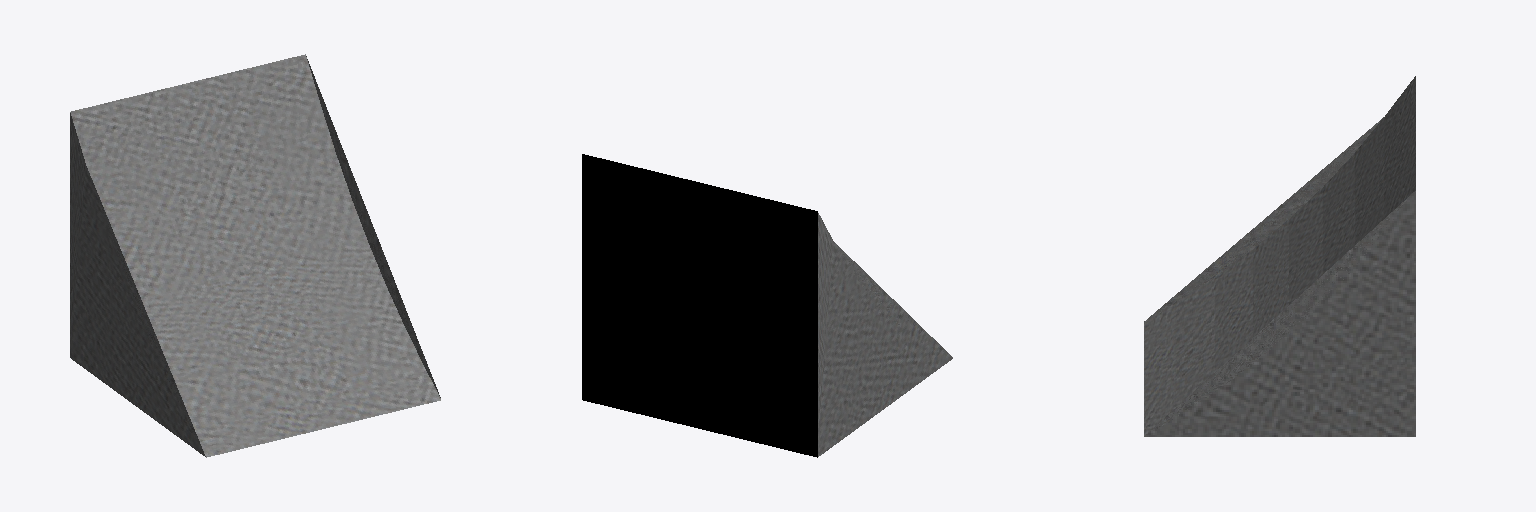
3 renders of one model, left to right at view 1: azimuth 30°, elevation 25°; view 2: azimuth 150°, elevation 25°; view 3: azimuth 270°, elevation 25°, orthographic.
Parts seen in each view (by area): view 1: Ramp_2_Big:pCube1; view 2: Ramp_2_Big:pCube1; view 3: Ramp_2_Big:pCube1.
Part boxes in pixels (x1,y1,x2,y2): Ramp_2_Big:pCube1: (70, 54, 440, 457); Ramp_2_Big:pCube1: (582, 154, 952, 457); Ramp_2_Big:pCube1: (1144, 76, 1415, 436).
Size of the model in its own units: 600 by 600 by 600.
Materials: 2 (1 with a texture image).